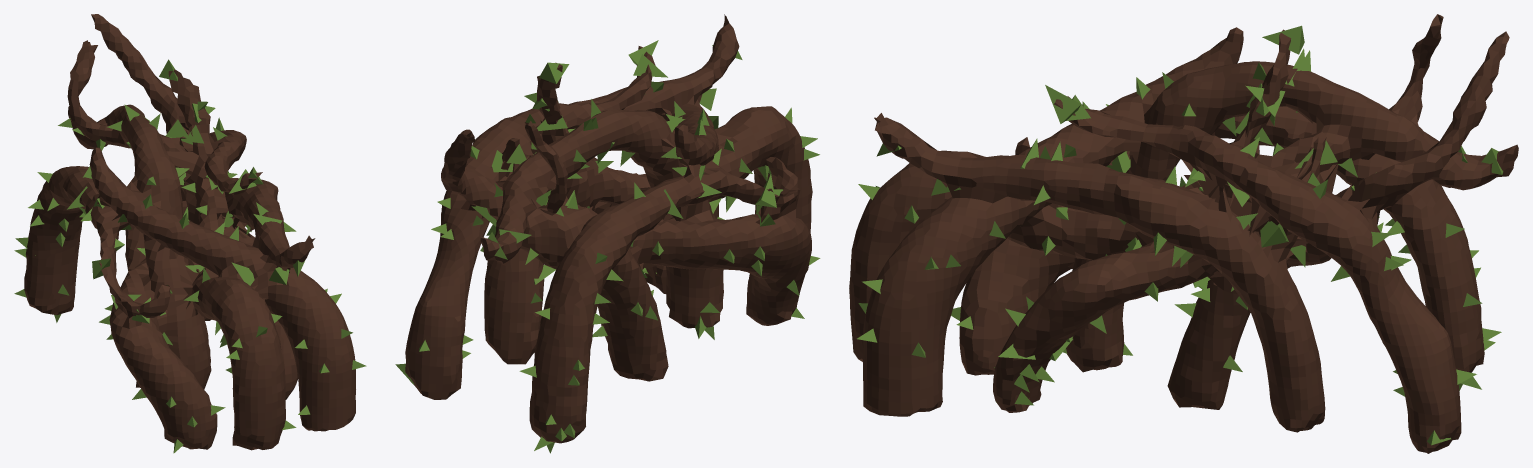
Rendered from BrambleBush.fbx.
The picture shows the model from 3 angles, left to right: view 1: azimuth 30°, elevation 25°; view 2: azimuth 150°, elevation 25°; view 3: azimuth 270°, elevation 25°; orthographic projection. The views are drawn at different scales.
Parts seen in each view (by area): view 1: Bramble; view 2: Bramble; view 3: Bramble.
Boxes of the visible parts, box(x1,y1,x2,y2) form: Bramble: box(14, 14, 366, 453); Bramble: box(395, 14, 820, 453); Bramble: box(849, 14, 1518, 453).
Bounding box in the file's own units: 127 × 156 × 230.
